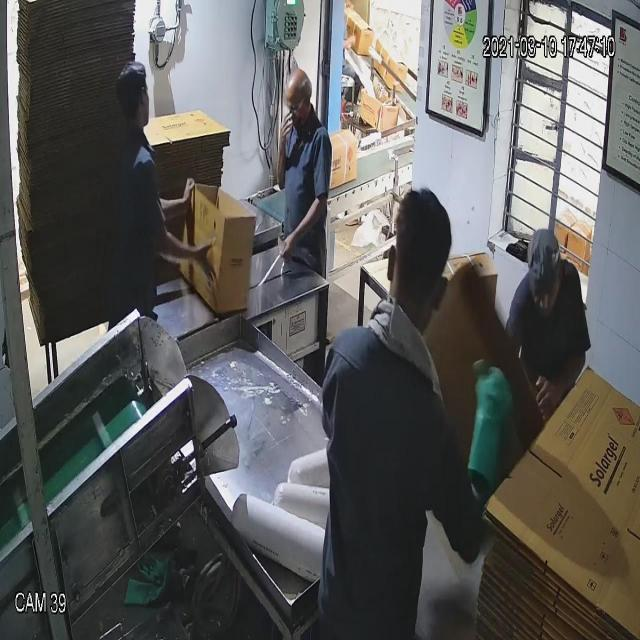No_Gloves: (27, 86, 560, 432)
